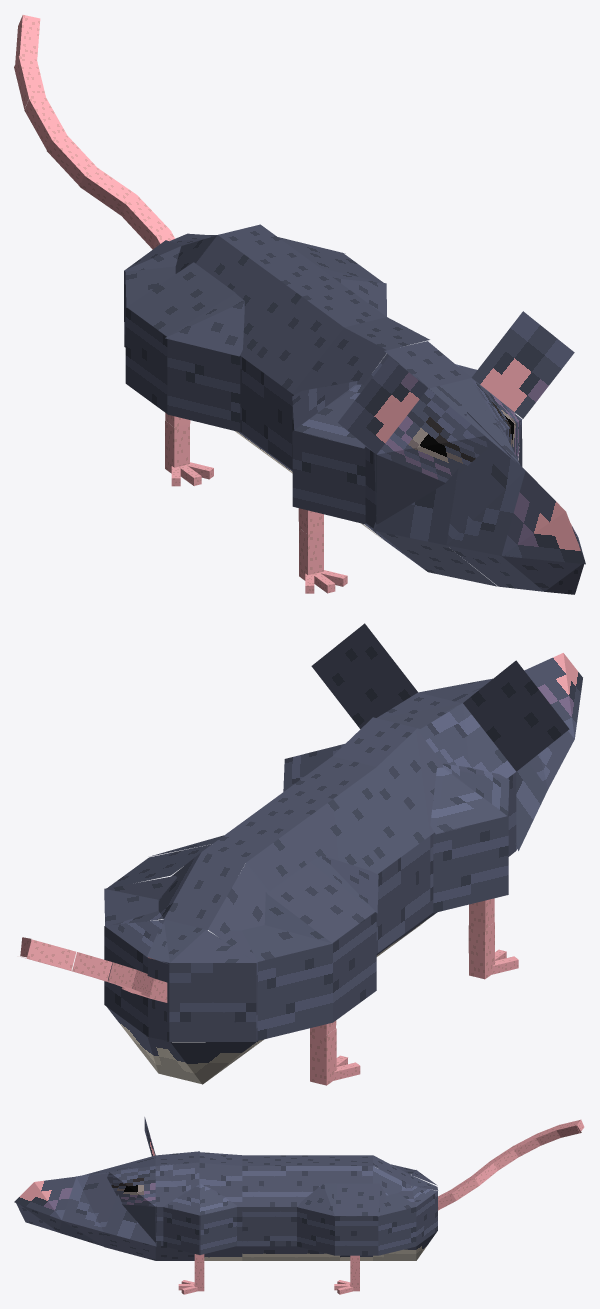
Rendered from RatTry.gltf.
The picture shows the model from 3 angles, top to bottom: view 1: azimuth 30°, elevation 25°; view 2: azimuth 150°, elevation 25°; view 3: azimuth 270°, elevation 25°; orthographic projection. The views are drawn at different scales.
Parts seen in each view (by area): view 1: default; view 2: default; view 3: default.
Boxes of the visible parts, x1=… form: default: x1=14, y1=15, x2=585, y2=594; default: x1=20, y1=623, x2=582, y2=1085; default: x1=14, y1=1117, x2=584, y2=1294.
Bounding box in the file's own units: 3.42 × 4 × 13.12.
2 materials, 2 textured.
